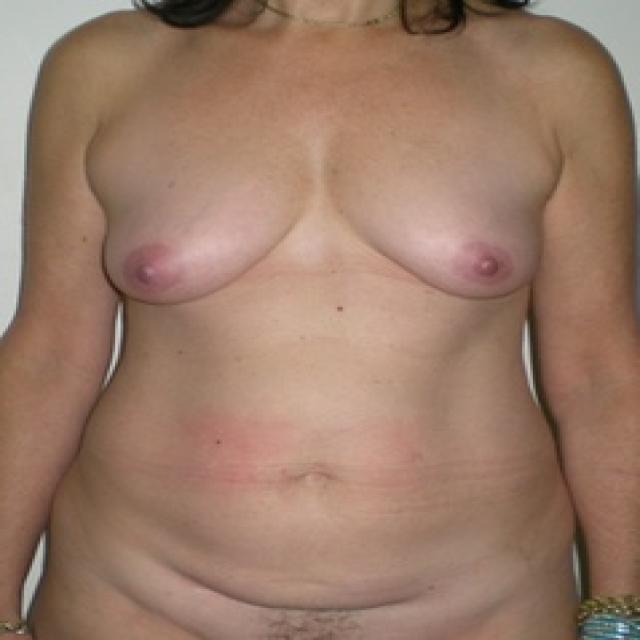Seno ileso: (322, 136, 562, 314), (86, 134, 316, 318)
